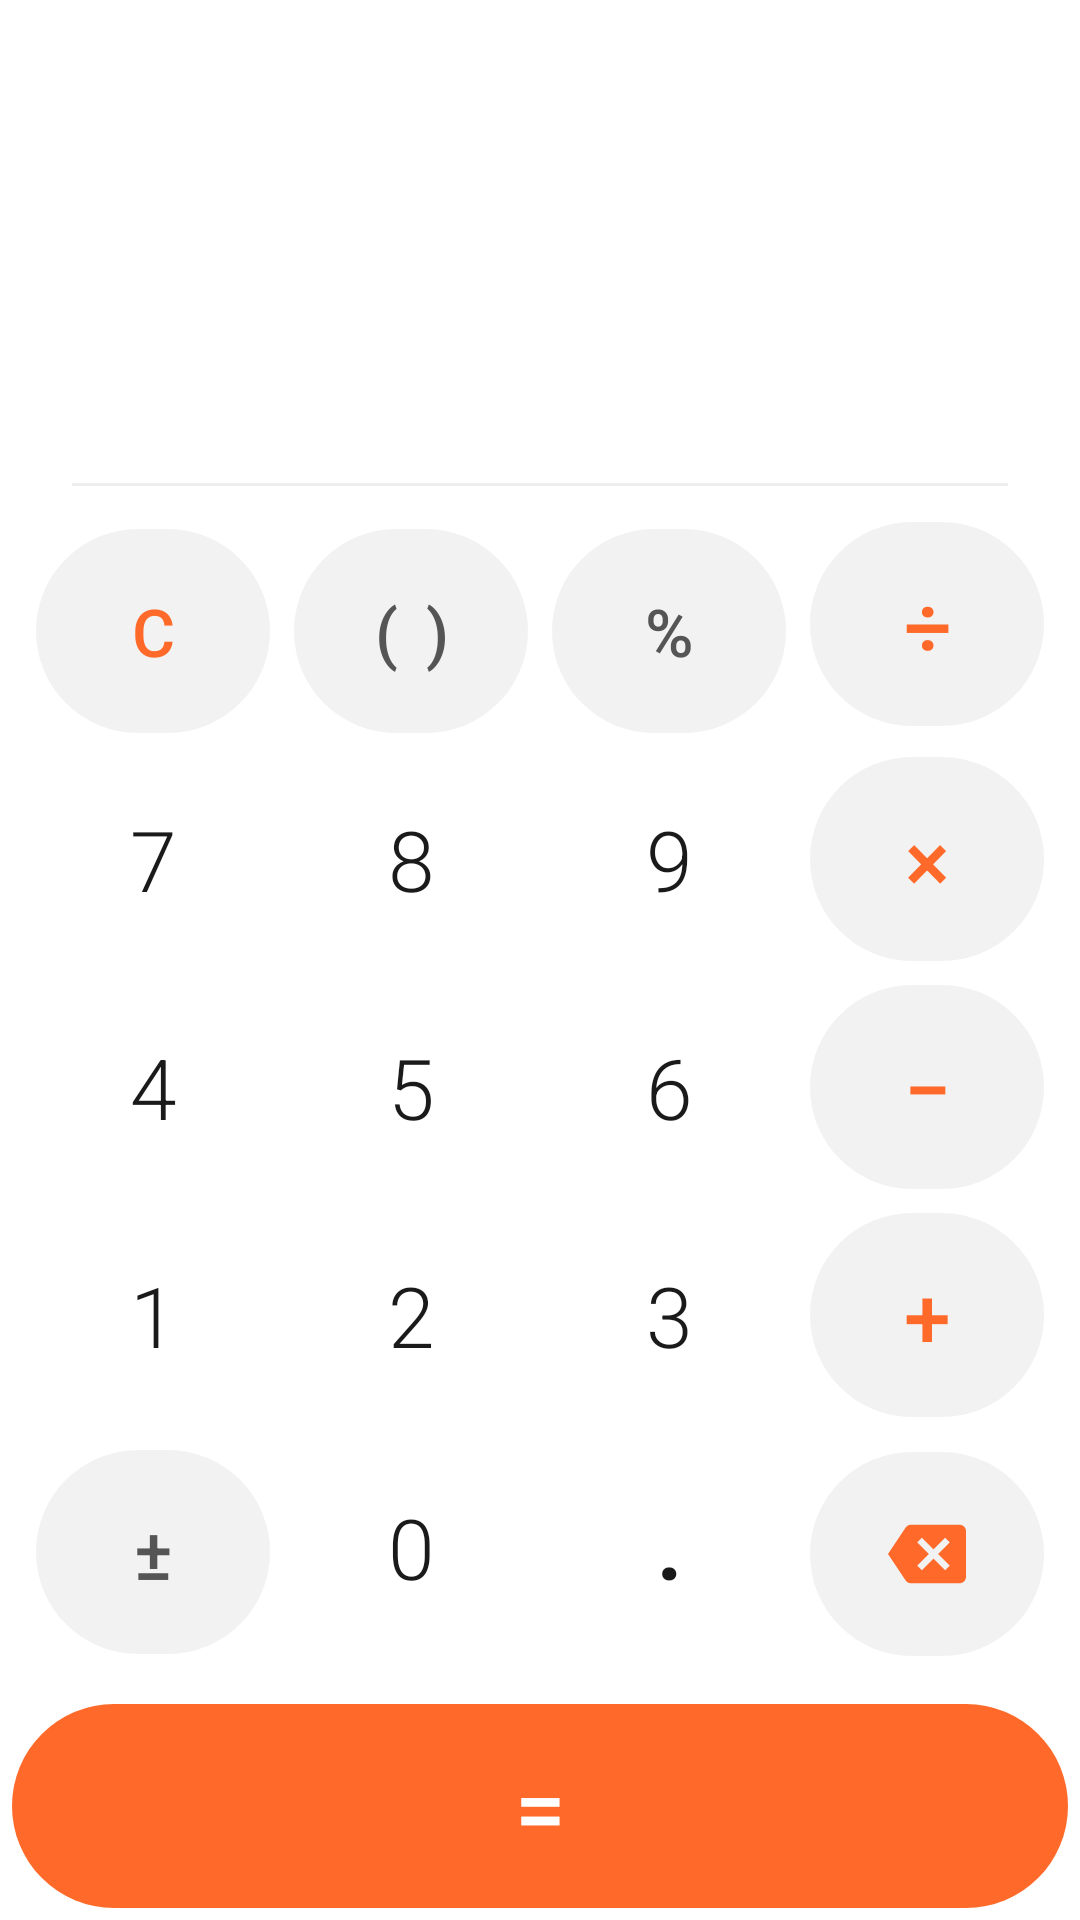

Point at icon controls on the screen. Image size 1080 × 1920, points as (x,y).
Borrar: (927,1554)
